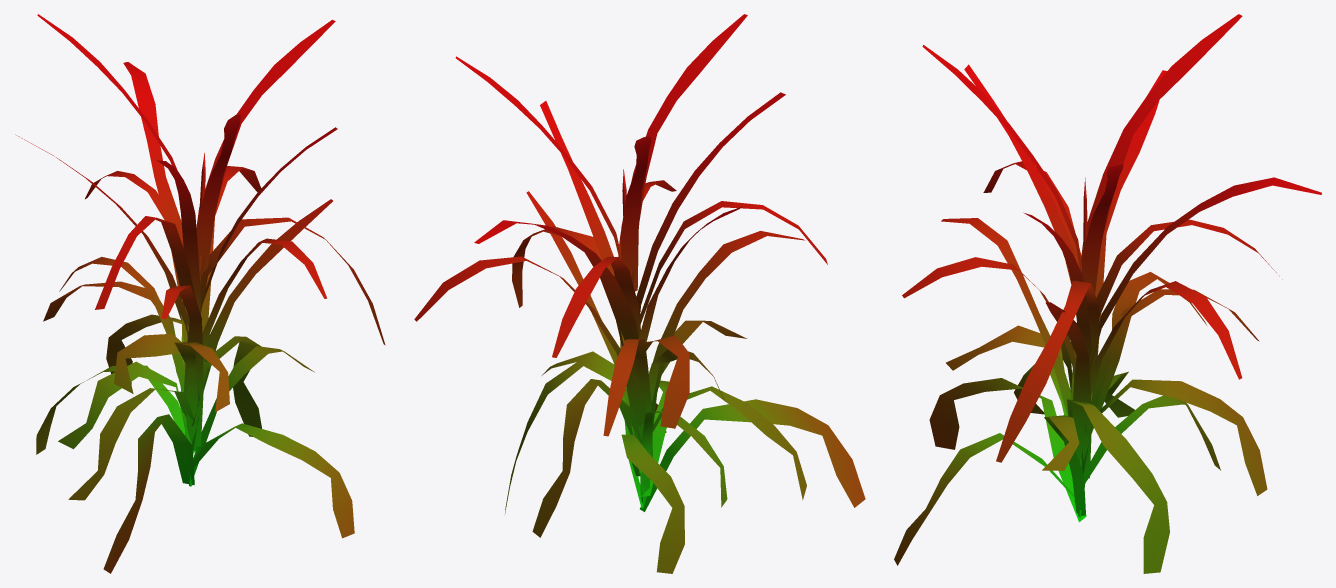
File: Var2_LOD1.fbx
3 views of the same model, side by side, from view 1: azimuth 30°, elevation 25°; view 2: azimuth 150°, elevation 25°; view 3: azimuth 270°, elevation 25° (orthographic). The views are drawn at different scales.
Parts seen in each view (by area): view 1: _3ba6_Var2_LOD1; view 2: _3ba6_Var2_LOD1; view 3: _3ba6_Var2_LOD1.
Boxes of the visible parts, <box> form: _3ba6_Var2_LOD1: <box>15,14,385,573</box>; _3ba6_Var2_LOD1: <box>414,14,865,573</box>; _3ba6_Var2_LOD1: <box>894,14,1321,573</box>.
Size of the model in its own units: 34.54 by 46.84 by 38.59.
